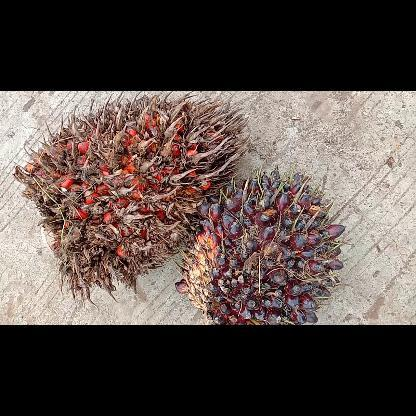TBS mentah: (175, 164, 345, 324)
Terlalu masak: (12, 90, 250, 310)
